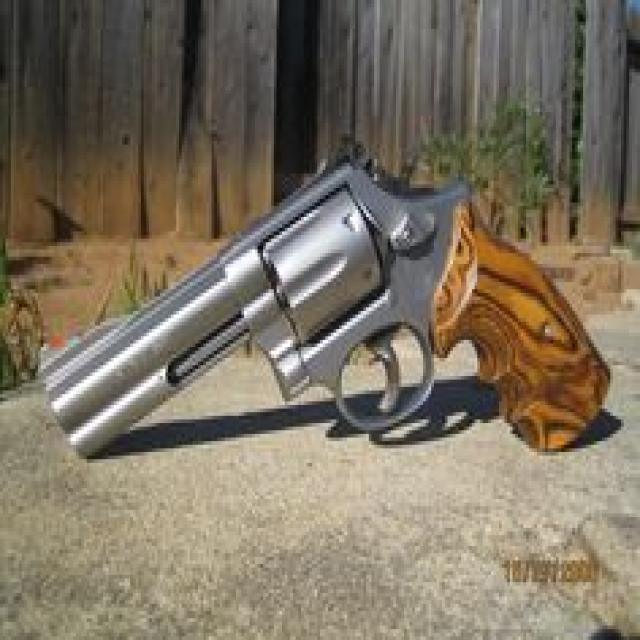revolver: (7, 140, 638, 470)
